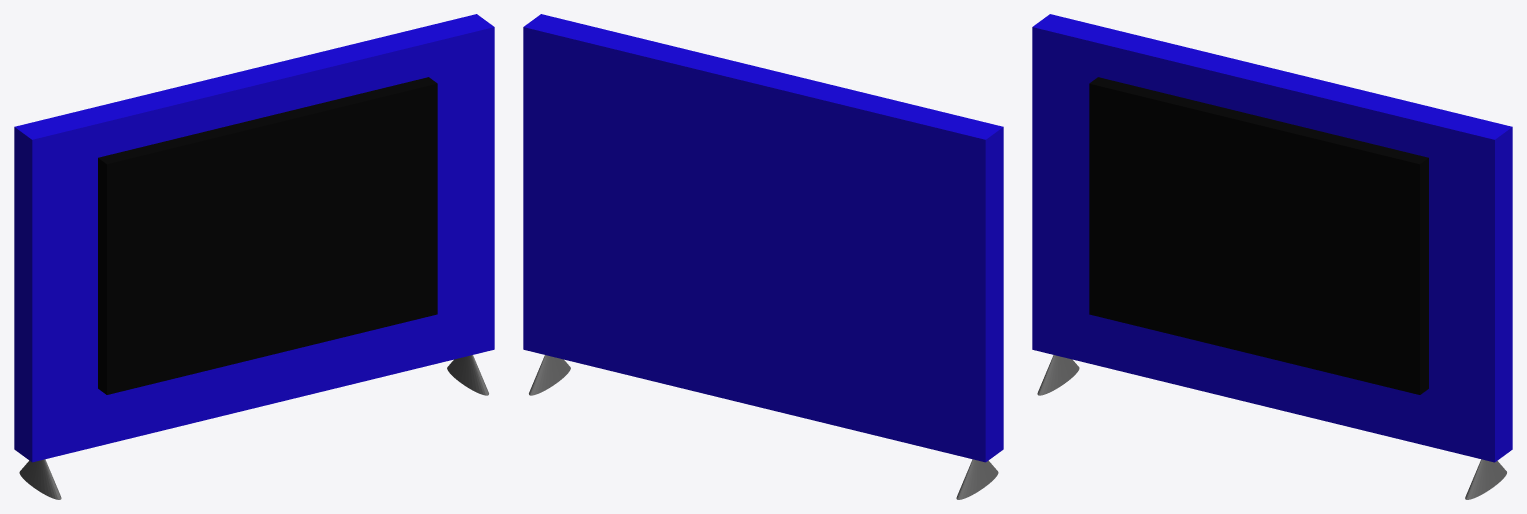
File: DrivableTvScreen.fbx
The picture shows the model from 3 angles, left to right: view 1: azimuth 30°, elevation 25°; view 2: azimuth 150°, elevation 25°; view 3: azimuth 330°, elevation 25°; orthographic projection.
Parts seen in each view (by area): view 1: Cube.001; view 2: Cube.001; view 3: Cube.001.
Boxes of the visible parts, x1=… form: Cube.001: x1=14, y1=14, x2=494, y2=499; Cube.001: x1=523, y1=14, x2=1003, y2=499; Cube.001: x1=1032, y1=14, x2=1512, y2=499.
Size of the model in its own units: 600 by 442 by 88.74.
